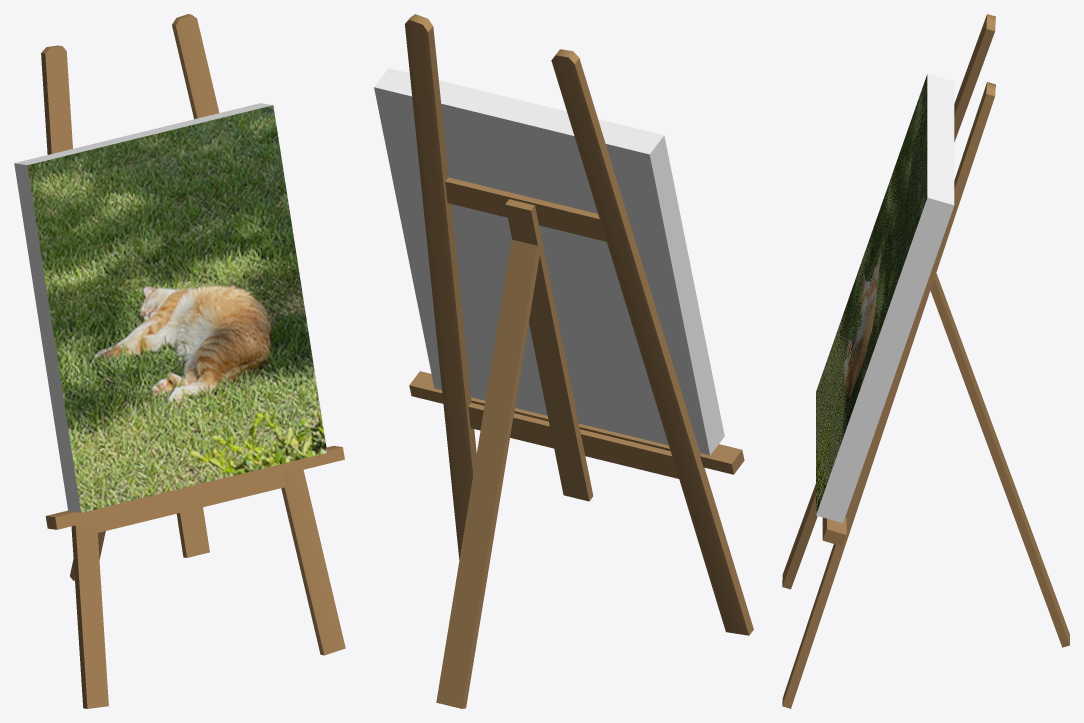
The model's file is ajoumeo_10.fbx.
The picture shows the model from 3 angles, left to right: view 1: azimuth 30°, elevation 25°; view 2: azimuth 150°, elevation 25°; view 3: azimuth 270°, elevation 25°; orthographic projection. The views are drawn at different scales.
Visible parts, largest first — view 1: ajoumeo_010; view 2: ajoumeo_010; view 3: ajoumeo_010.
Boxes of the visible parts, x1=… form: ajoumeo_010: x1=14, y1=14, x2=345, y2=708; ajoumeo_010: x1=374, y1=14, x2=753, y2=708; ajoumeo_010: x1=782, y1=14, x2=1069, y2=708.
Bounding box in the file's own units: 0.0762 × 0.1469 × 0.064.
1 material, 1 textured.
